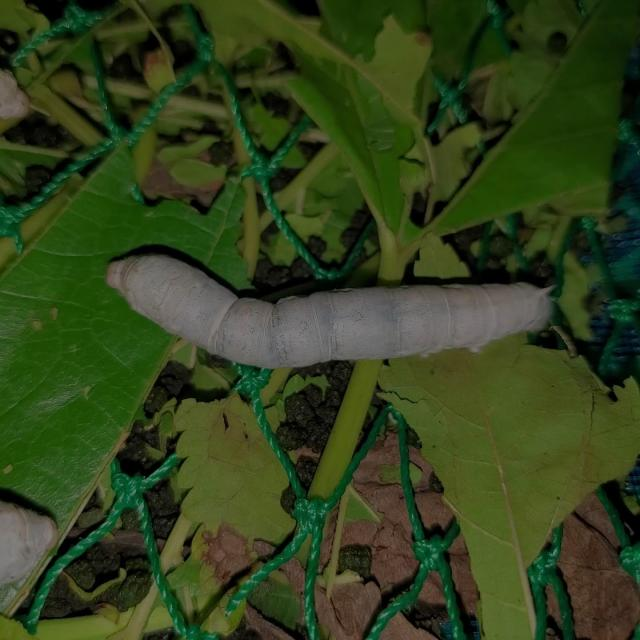Healthy: (101, 236, 565, 374)
